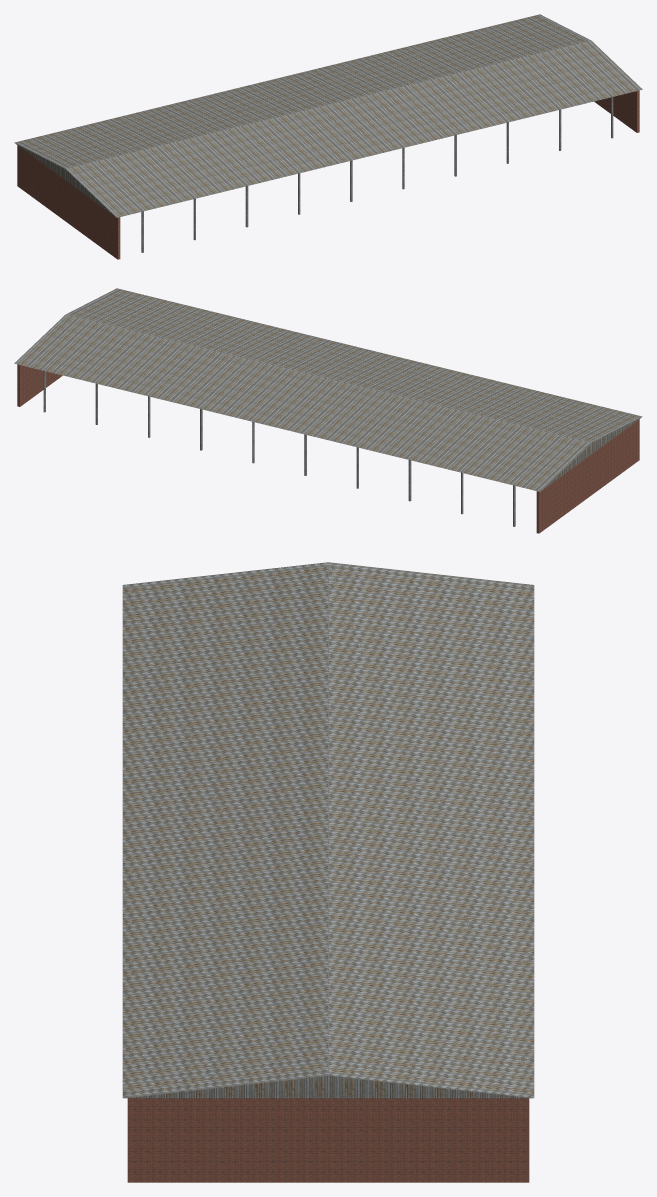
File: market-hall-a_lod0.gltf
The picture shows the model from 3 angles, top to bottom: view 1: azimuth 30°, elevation 25°; view 2: azimuth 150°, elevation 25°; view 3: azimuth 270°, elevation 25°; orthographic projection. The views are drawn at different scales.
Parts seen in each view (by area): view 1: market-hall-a_roof, market-hall-a_endwalls, market-hall-a_columns; view 2: market-hall-a_roof, market-hall-a_endwalls, market-hall-a_columns; view 3: market-hall-a_roof, market-hall-a_endwalls.
Part boxes in pixels (x1,y1,x2,y2): market-hall-a_roof: (14, 14, 642, 217); market-hall-a_endwalls: (17, 90, 639, 259); market-hall-a_columns: (141, 97, 613, 252); market-hall-a_roof: (14, 288, 642, 491); market-hall-a_endwalls: (17, 364, 639, 533); market-hall-a_columns: (43, 371, 515, 526); market-hall-a_roof: (122, 562, 534, 1098); market-hall-a_endwalls: (127, 1098, 529, 1182).
Bounding box in the file's own units: 121 × 12 × 41.
